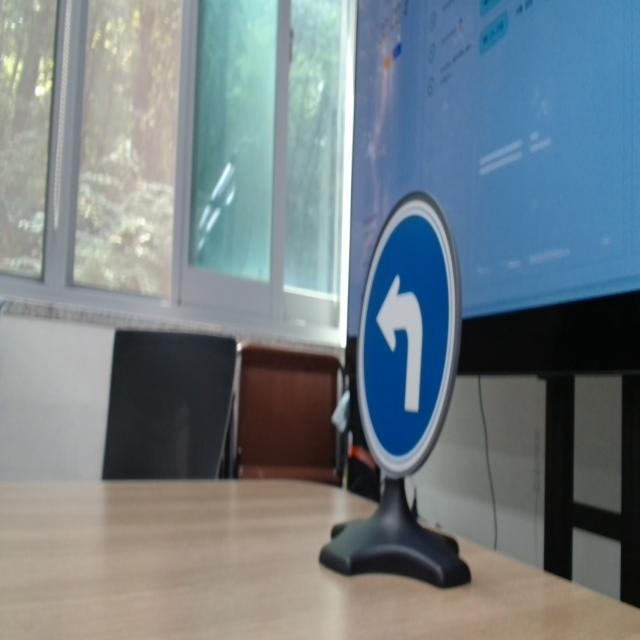left_direction: (340, 170, 492, 482)
